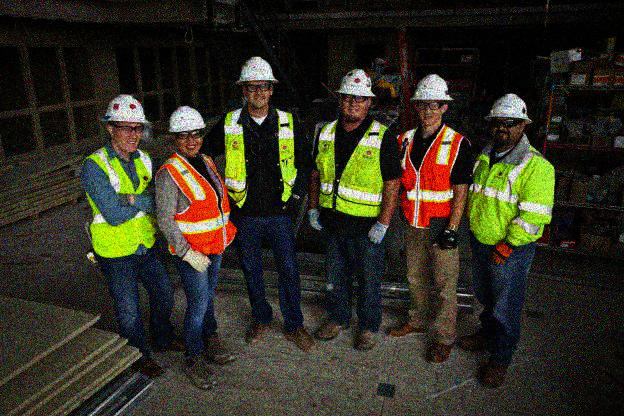helmet: (96, 92, 152, 154), (480, 92, 532, 144), (232, 53, 278, 109), (333, 68, 376, 123), (410, 72, 453, 126), (167, 104, 207, 157)
